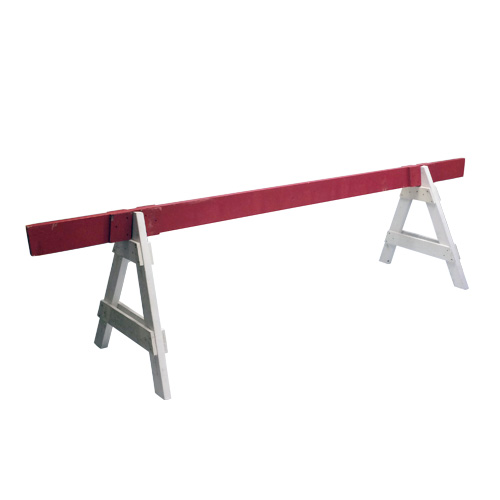Barrier: (24, 147, 482, 413)
